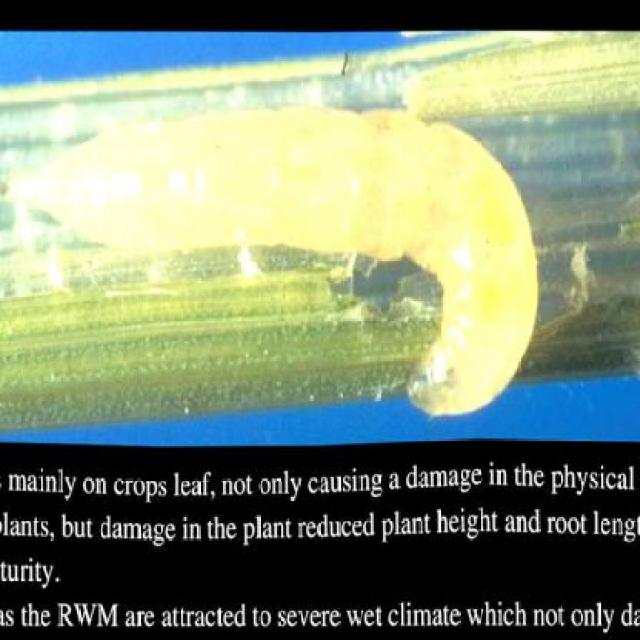whorl-maggot: (1, 94, 552, 420)
